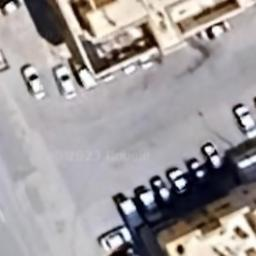sedan: (18, 62, 50, 104), (199, 141, 231, 177), (133, 188, 164, 224), (51, 64, 80, 102), (95, 224, 134, 252), (164, 166, 192, 202), (231, 100, 256, 140), (149, 176, 174, 208), (186, 158, 210, 190)
truck: (112, 192, 144, 232)
van: (70, 56, 102, 92)
